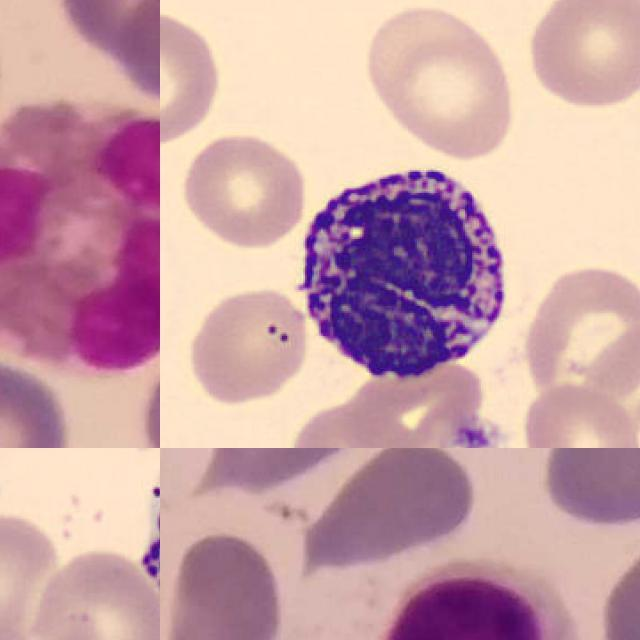Basophil: (286, 149, 519, 391), (125, 448, 160, 637)
Eosinophil: (0, 96, 160, 372)
Lymphocyte: (375, 560, 585, 640)
Platelets: (445, 411, 504, 448)
RBC: (360, 0, 522, 163), (516, 255, 640, 403), (181, 283, 312, 408), (177, 128, 310, 251), (521, 0, 640, 112), (27, 544, 160, 640), (502, 362, 640, 448), (276, 388, 438, 448), (160, 6, 225, 150), (0, 508, 66, 640), (518, 378, 640, 448), (584, 321, 640, 436)
